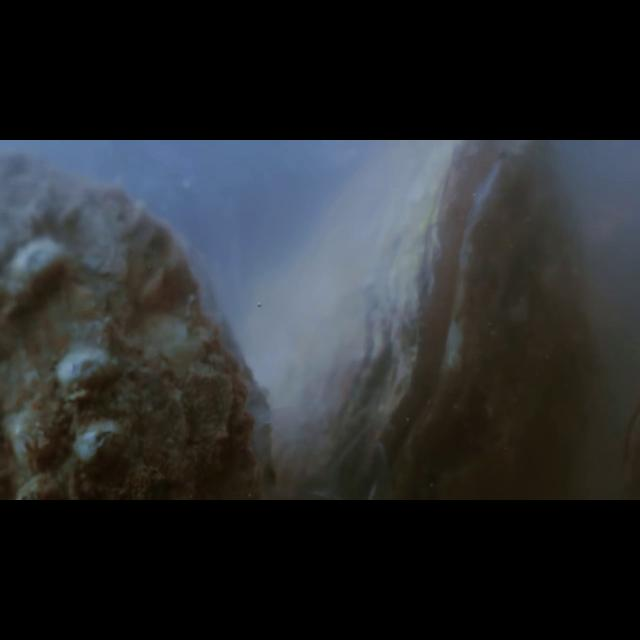Oyster-Closed: (5, 148, 282, 494)
Oyster-Open: (313, 145, 602, 498)
